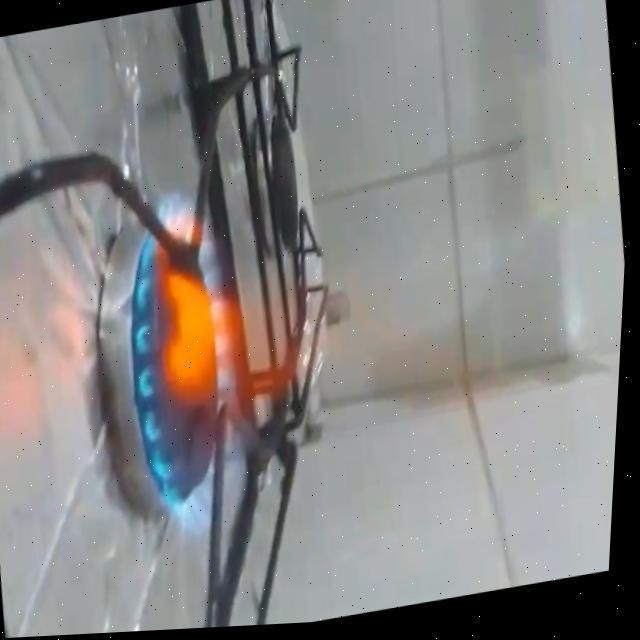fire: (97, 152, 411, 553)
